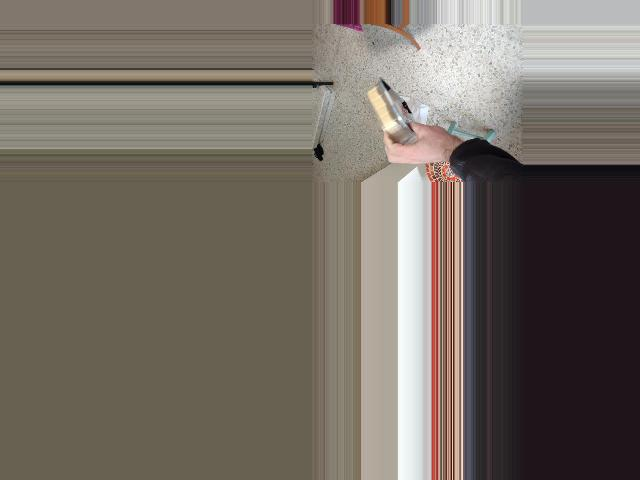cheese: (352, 74, 433, 176)
